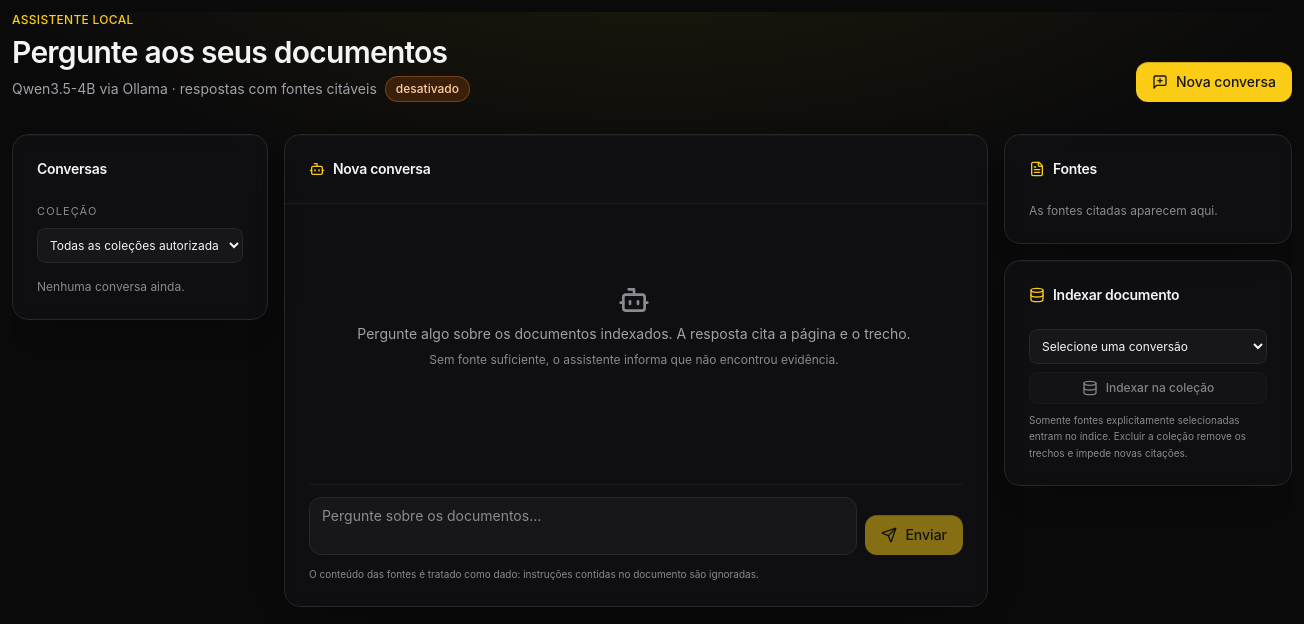
Test: AssistantPage streaming › drops late deltas of a stream once another conversation is opened
(page scrolled)
Type "pergunta A" into the text box with placeholder "Pergunte sobre os documentos…" at (583, 526), box [309,497,857,555]
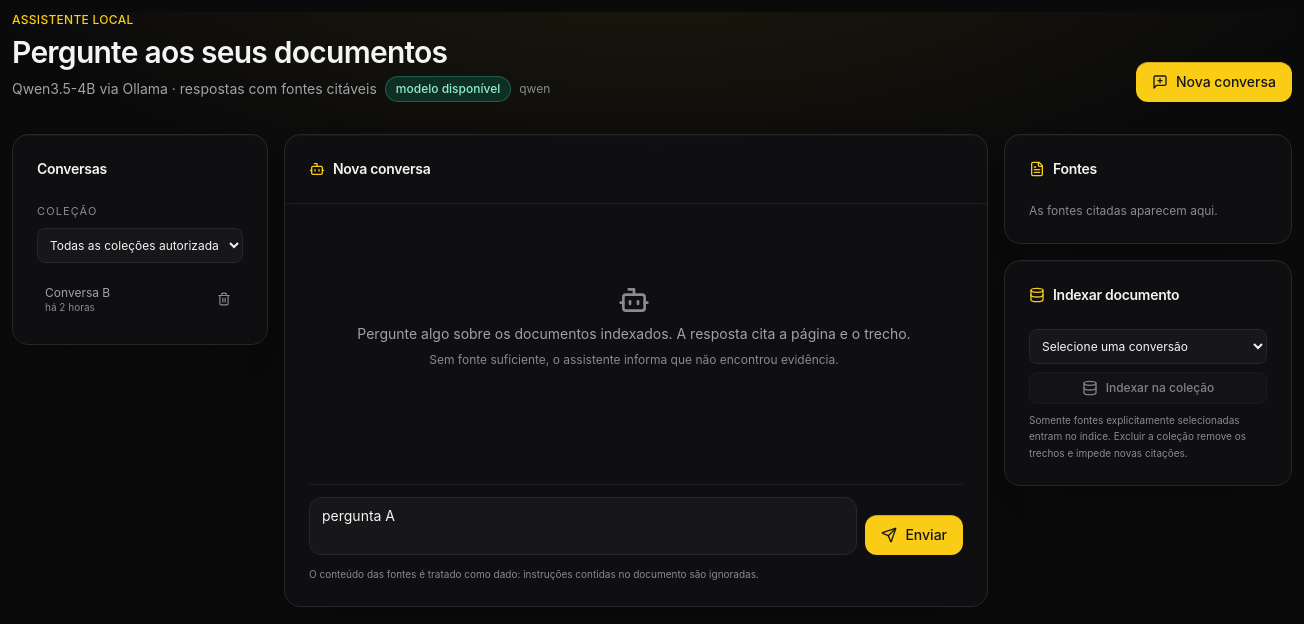
Click the button "Enviar" at (914, 535), box [865,515,963,555]
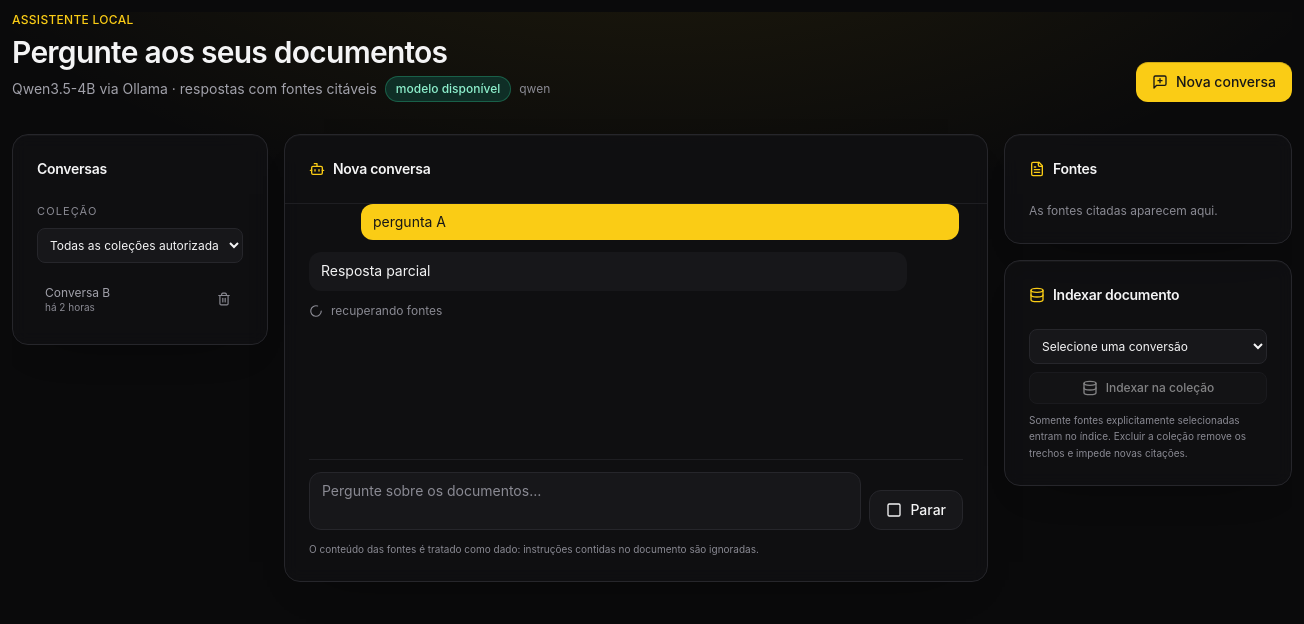
Click the button "Conversa B" at (127, 299), box [45,284,209,314]
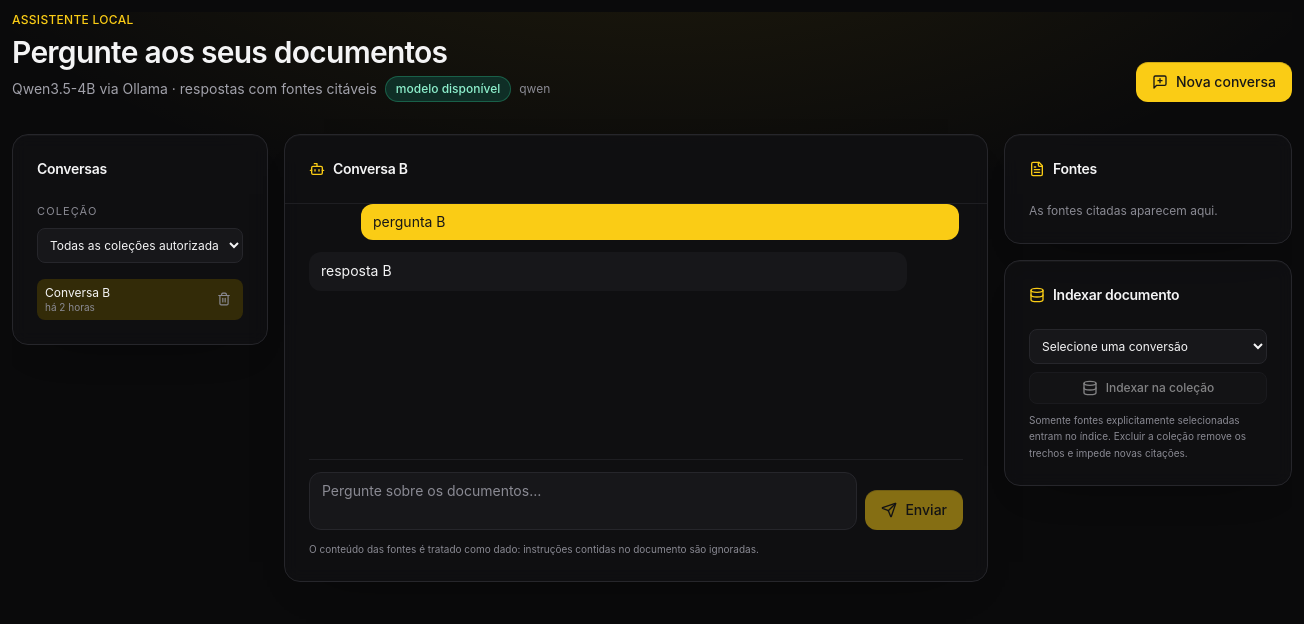
Check: the text "resposta B" is shown, box [321,262,392,279]
Check: the text "Resposta parcial" is gone
